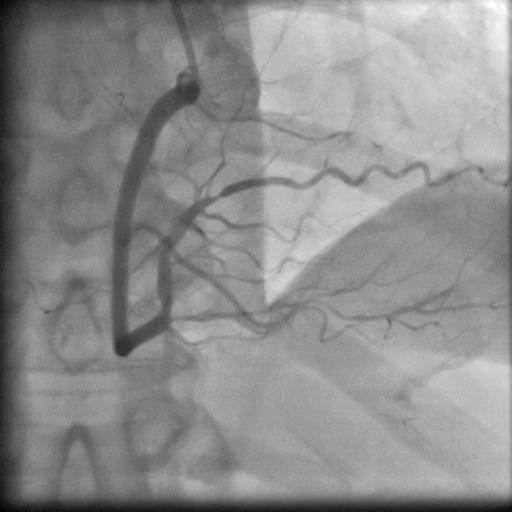Stenosis: (201, 186, 232, 207)
